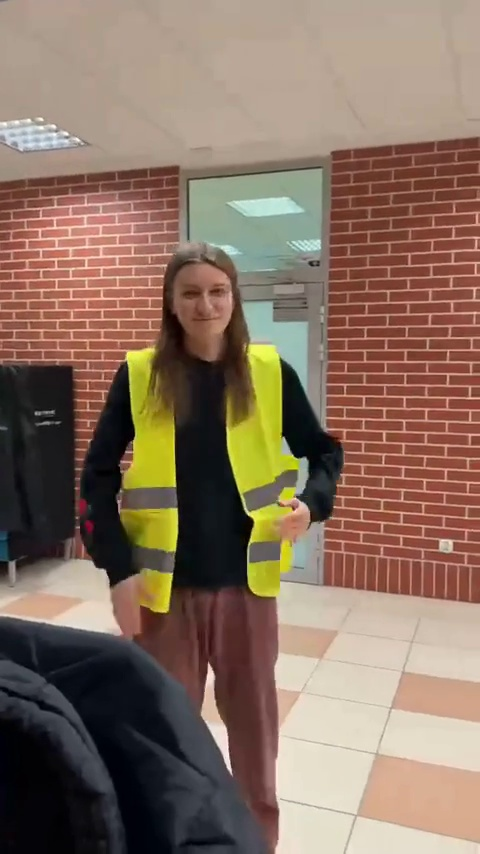vest: (80, 244, 344, 818)
